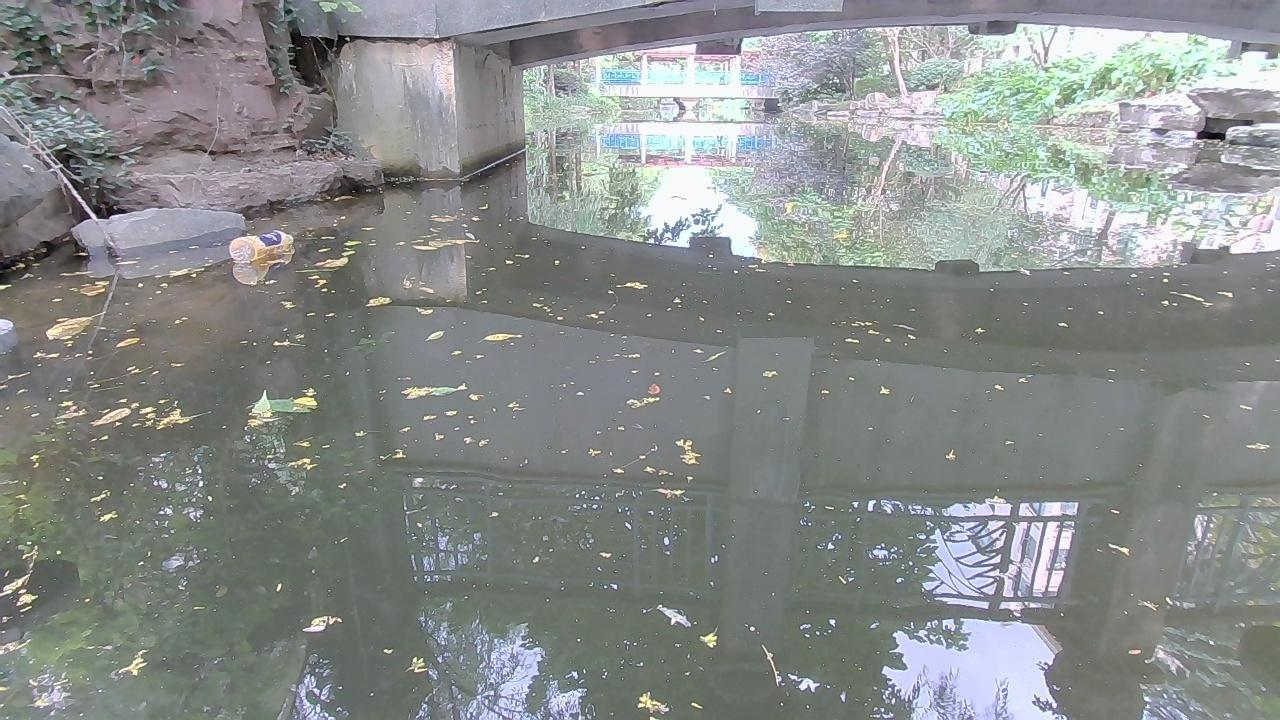bottle: (227, 225, 298, 263)
